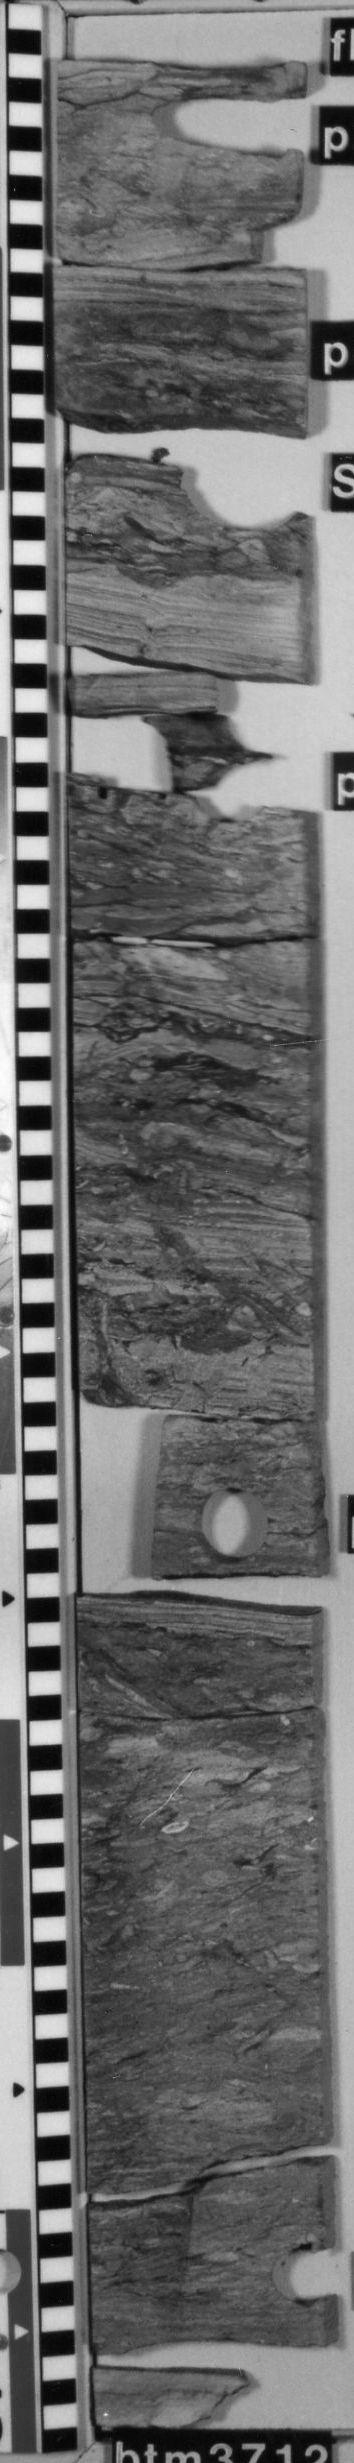hplug: (131, 75, 304, 165), (186, 1480, 282, 1566), (183, 752, 272, 833), (267, 2227, 335, 2318)
scal: (171, 408, 304, 542)
vplug: (83, 1389, 183, 1576), (112, 2202, 209, 2314)
